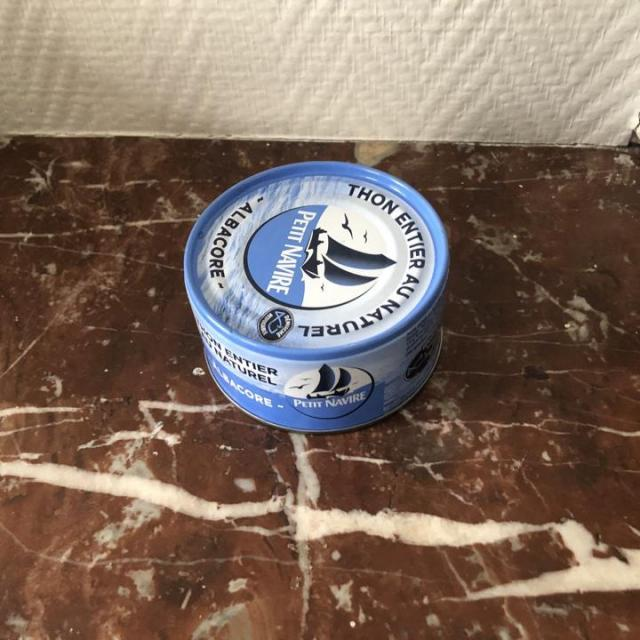recyclable: (174, 162, 452, 430)
